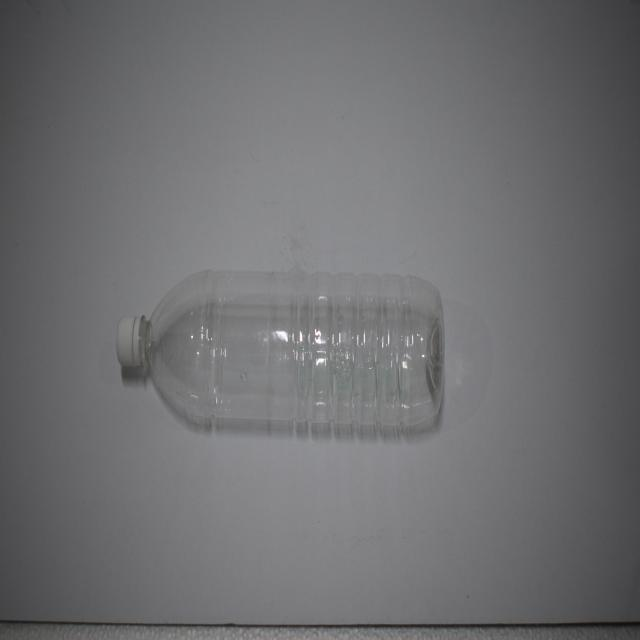bottle: (114, 260, 464, 444)
